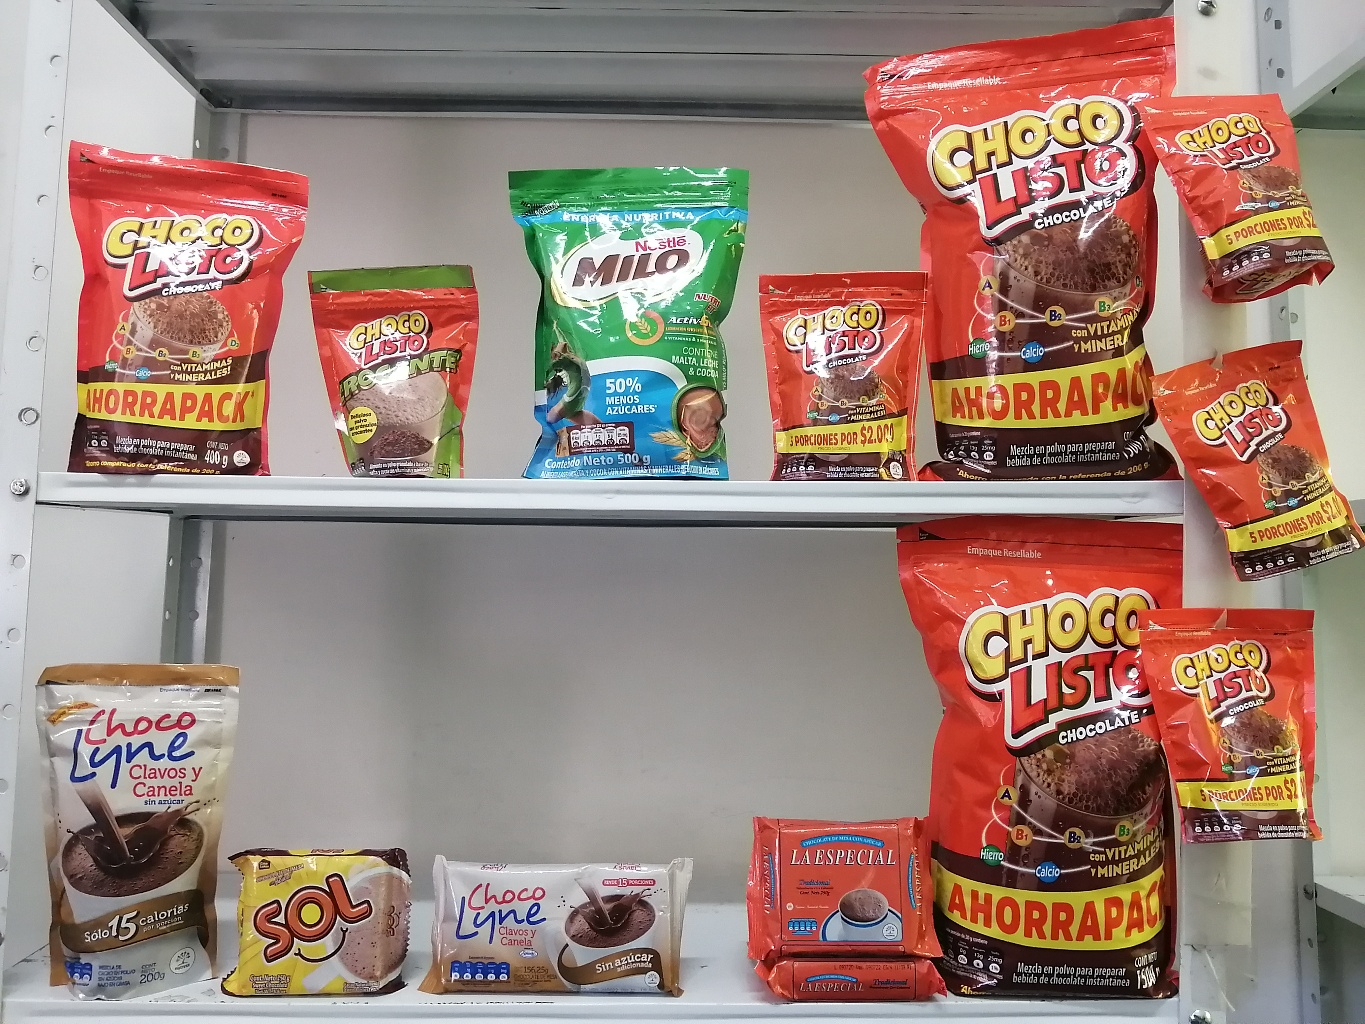COL0170102DYP10000: (305, 268, 480, 478)
COL0170103DYP1,500: (858, 30, 1190, 482)
COL0170103DYP10000: (756, 275, 923, 481)
COL0170103DYP40000: (69, 138, 305, 475)
COL0170205DYP50000: (502, 163, 749, 481)
